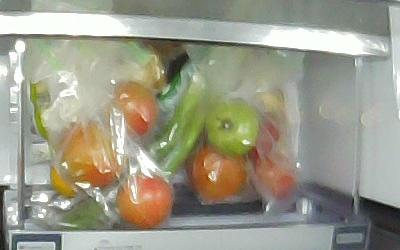tangerine: (50, 165, 78, 198)
tomato_vinyl: (55, 126, 124, 189), (184, 141, 248, 202), (202, 94, 259, 154), (114, 172, 173, 227), (106, 80, 158, 134), (251, 150, 296, 201), (243, 115, 281, 162)
